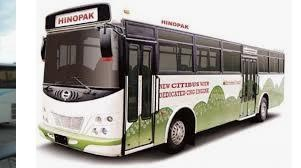bus: (37, 4, 285, 158)
